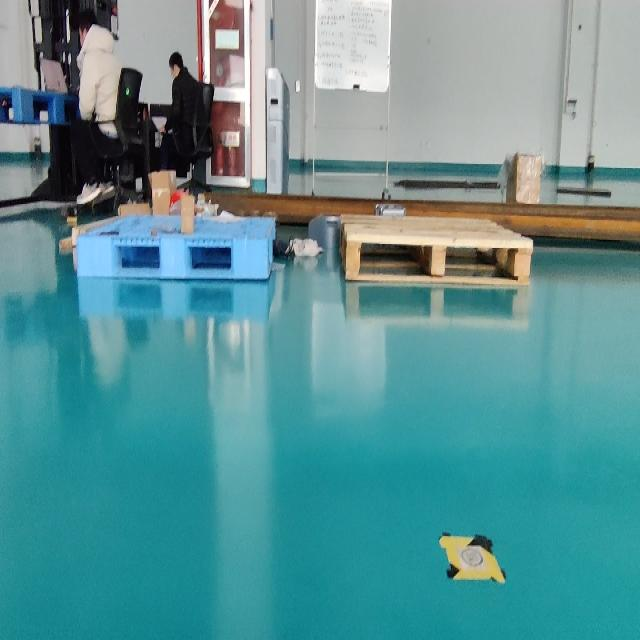euro: (340, 212, 535, 290)
